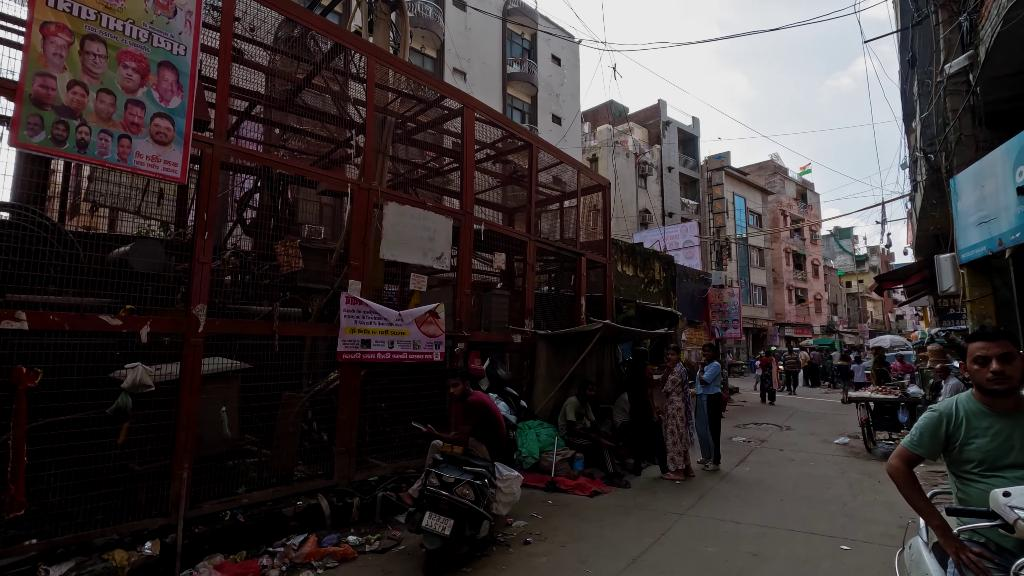garbage: (292, 535, 356, 567), (491, 462, 524, 518), (286, 532, 307, 550), (896, 401, 909, 423), (346, 535, 365, 547), (833, 436, 851, 446), (511, 519, 529, 528), (731, 436, 748, 443), (505, 519, 514, 524)
